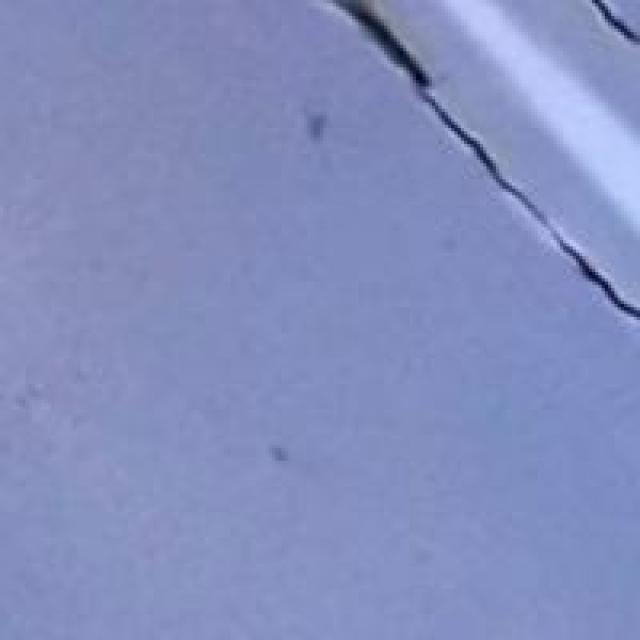crack: (346, 3, 636, 381)
